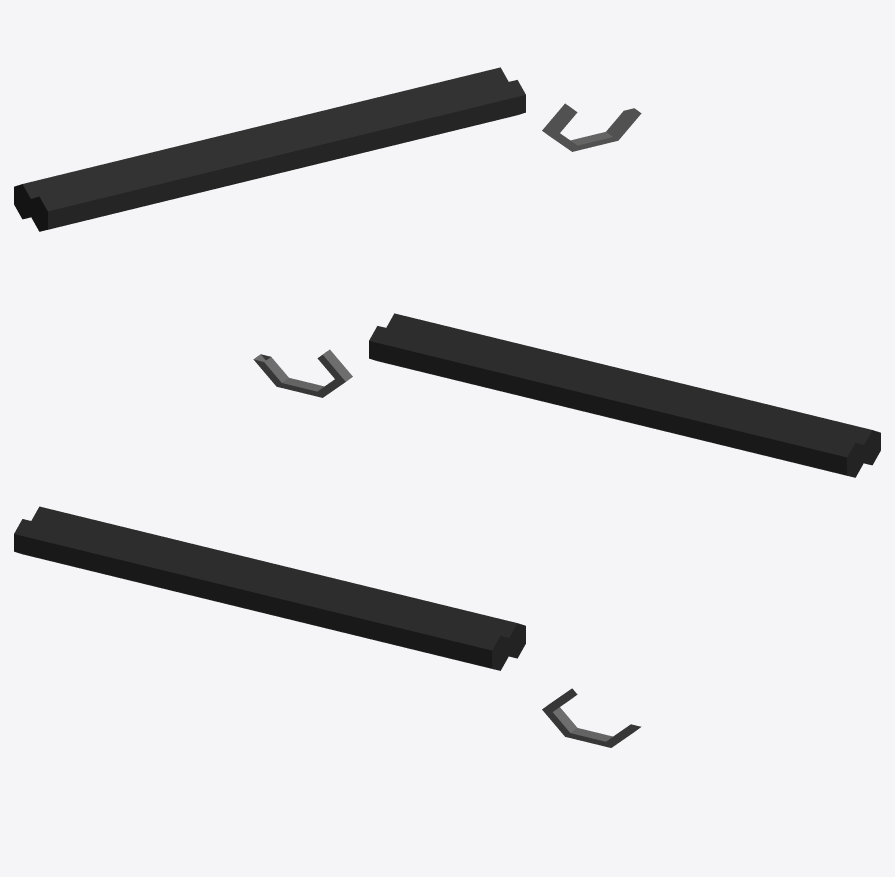
File: BoubleBarrelShotgun.fbx
3 renders of one model, top to bottom at view 1: azimuth 30°, elevation 25°; view 2: azimuth 150°, elevation 25°; view 3: azimuth 330°, elevation 25°, orthographic.
Parts seen in each view (by area): view 1: Shotgun; view 2: Shotgun; view 3: Shotgun.
Part boxes in pixels (box(x1,y1,x2,y2)): Shotgun: box(14, 67, 641, 231); Shotgun: box(253, 313, 880, 477); Shotgun: box(14, 506, 641, 747).
Bounding box in the file's own units: 1.38 × 0.2449 × 0.1749.
